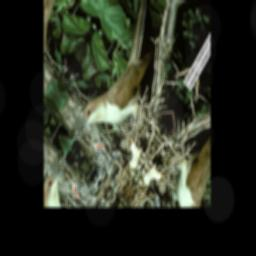Cuckoo: (65, 0, 187, 167)
